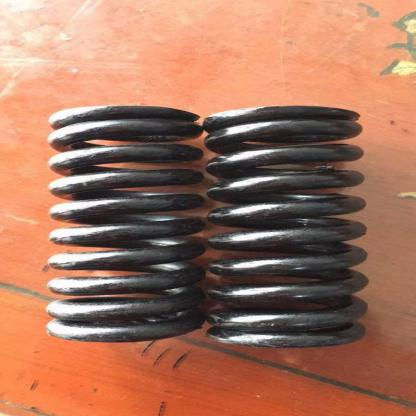FOD: (202, 102, 376, 352), (34, 103, 202, 349)
